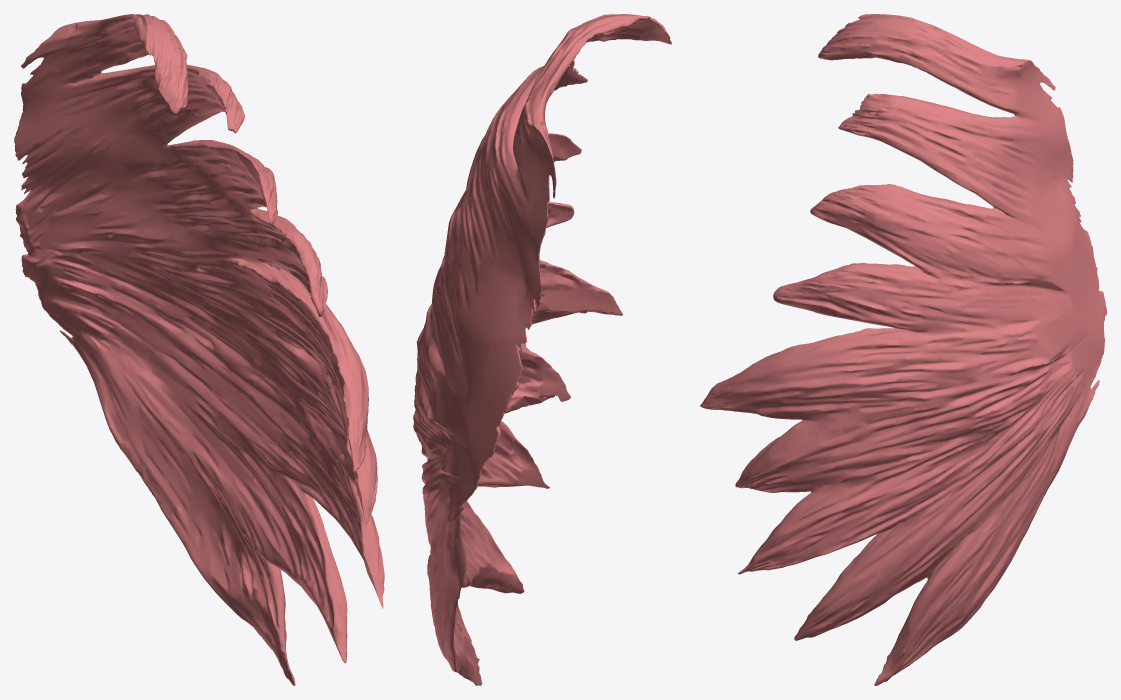
3 views of the same model, side by side, from view 1: azimuth 30°, elevation 25°; view 2: azimuth 150°, elevation 25°; view 3: azimuth 270°, elevation 25° (orthographic). The views are drawn at different scales.
Parts seen in each view (by area): view 1: FJ1459M; view 2: FJ1459M; view 3: FJ1459M.
Boxes of the visible parts, <box> form: FJ1459M: <box>14,14,384,685</box>; FJ1459M: <box>413,14,671,685</box>; FJ1459M: <box>700,14,1106,685</box>.
Bounding box in the file's own units: 0.0862 × 0.2688 × 0.162.
